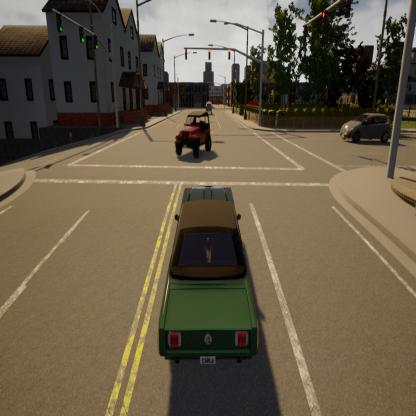Cars: (152, 168, 272, 383), (324, 88, 396, 164), (171, 99, 220, 172), (202, 84, 215, 117)
